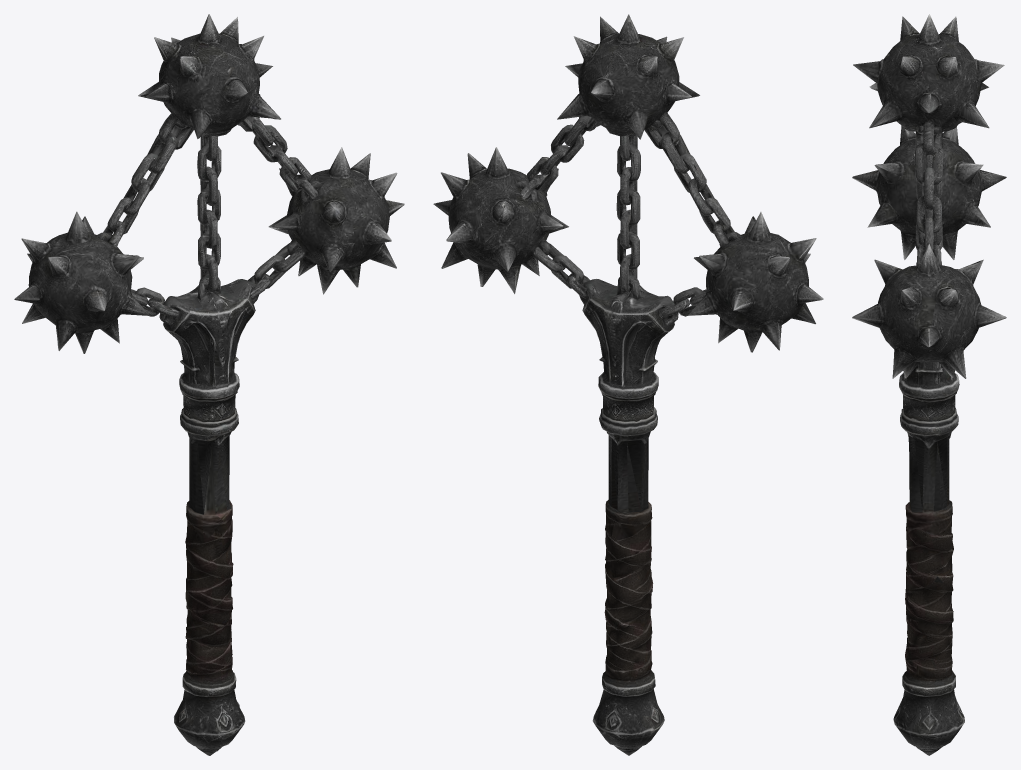
The model's file is flail_3.glb.
3 renders of one model, left to right at view 1: azimuth 30°, elevation 25°; view 2: azimuth 150°, elevation 25°; view 3: azimuth 270°, elevation 25°, orthographic.
Parts seen in each view (by area): view 1: flail_3; view 2: flail_3; view 3: flail_3.
Part boxes in pixels (left/top/right/bottom): flail_3: left=14, top=14, right=404, bottom=755; flail_3: left=433, top=14, right=823, bottom=755; flail_3: left=852, top=14, right=1006, bottom=755.
Bounding box in the file's own units: 0.551 × 1 × 0.1892.
Materials: 1 (1 with a texture image).
